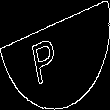P_N: (39, 25, 71, 85)
